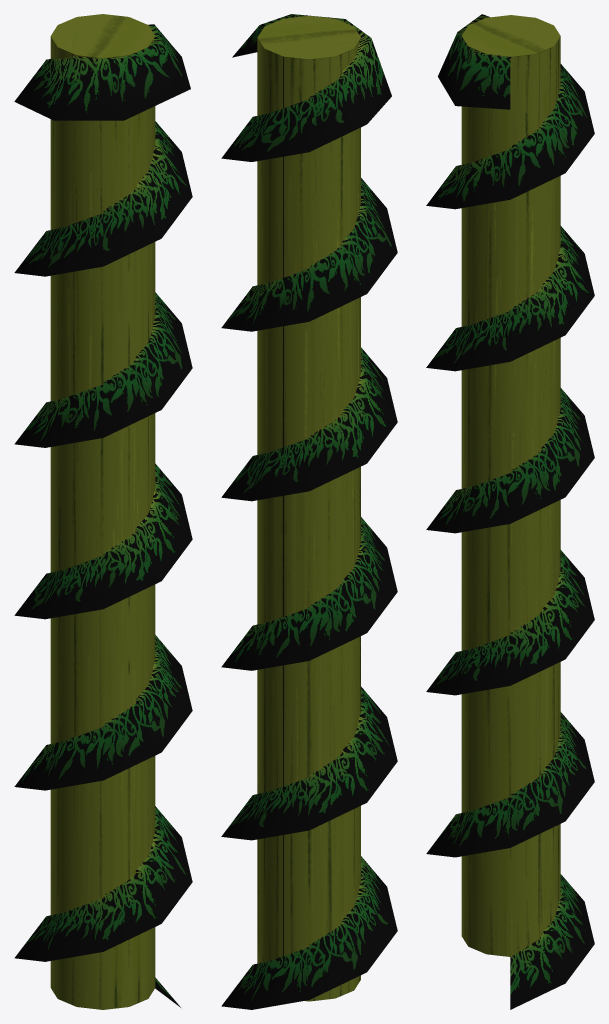
The model's file is M_VinesV2.glb.
The picture shows the model from 3 angles, left to right: view 1: azimuth 30°, elevation 25°; view 2: azimuth 150°, elevation 25°; view 3: azimuth 270°, elevation 25°; orthographic projection. The views are drawn at different scales.
Parts seen in each view (by area): view 1: Plane; view 2: Plane; view 3: Plane.
Part boxes in pixels (box(x1,y1,x2,y2)): Plane: box(14, 14, 192, 1009); Plane: box(221, 14, 397, 1009); Plane: box(426, 14, 594, 1009).
Size of the model in its own units: 0.3346 by 2.08 by 0.3398.
Materials: 1 (1 with a texture image).
